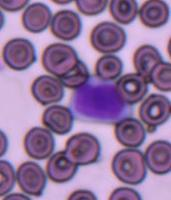M: (69, 74, 133, 123)
